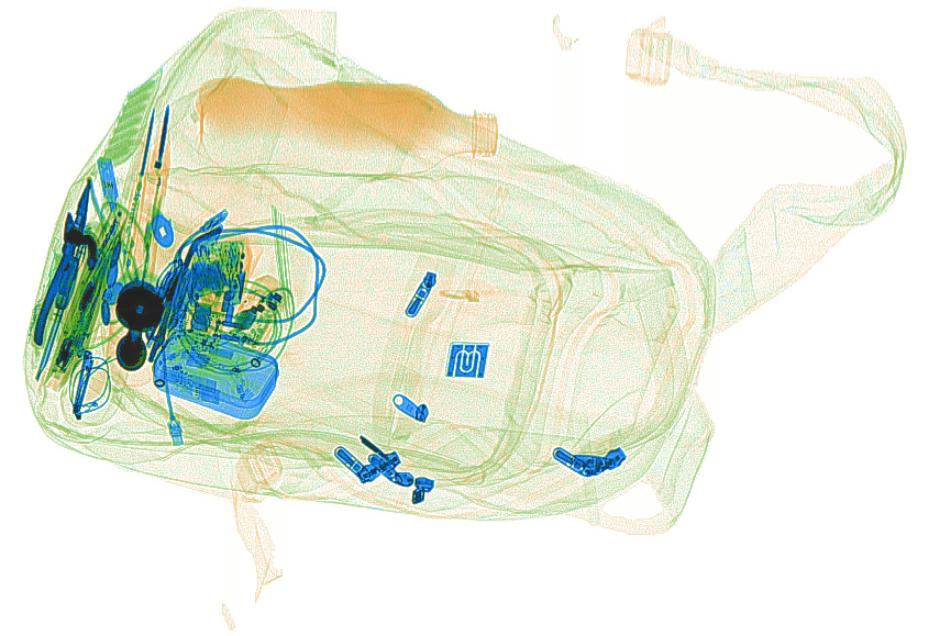USBFlashDisk: (160, 362, 221, 408)
seal: (110, 278, 166, 373)
